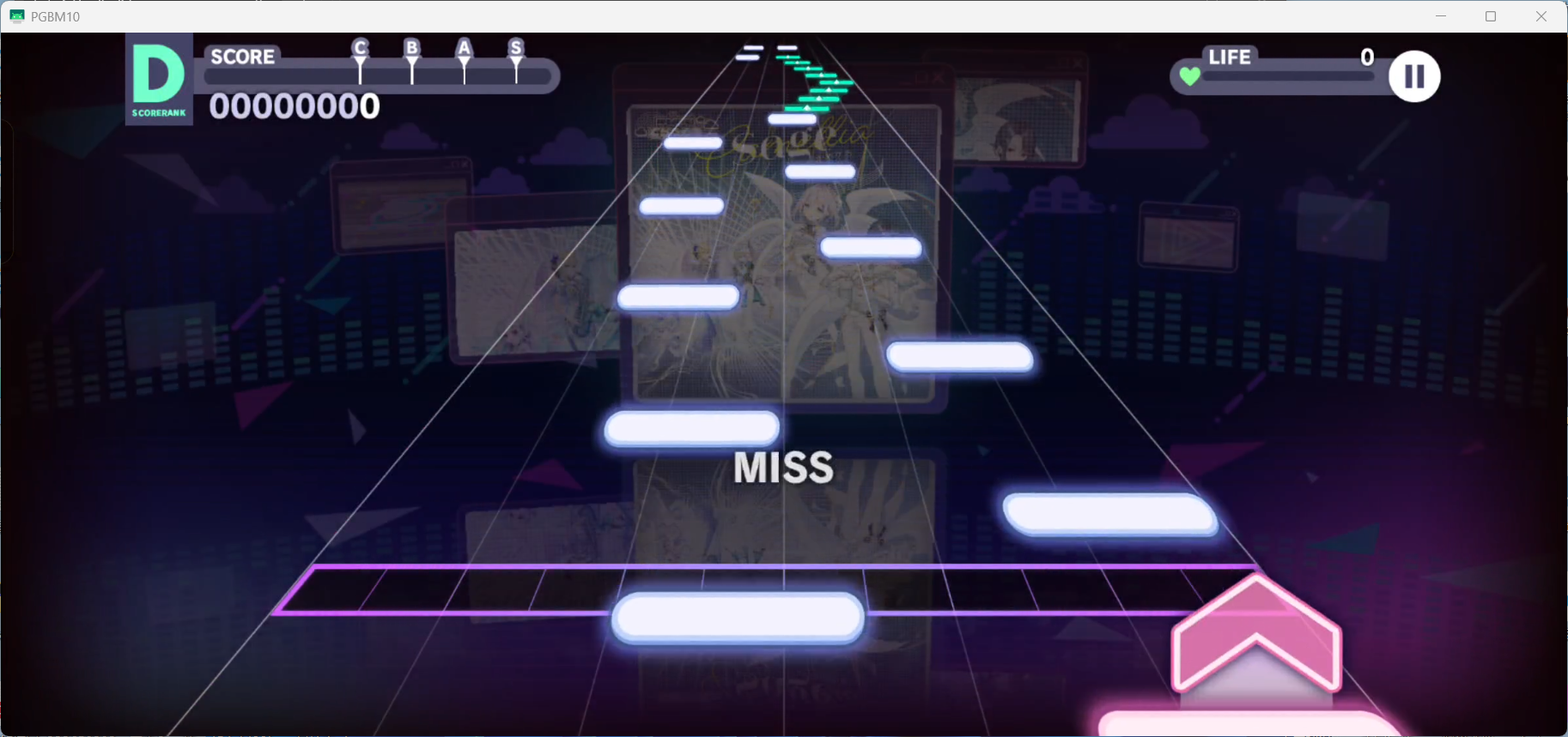flick: (1170, 570, 1347, 712)
sweep: (785, 105, 829, 112), (798, 95, 839, 102), (810, 87, 848, 93), (805, 72, 837, 78), (819, 80, 853, 85), (794, 66, 823, 70), (784, 60, 811, 64), (775, 54, 799, 58)
tap: (611, 593, 864, 644), (1004, 492, 1219, 534), (1097, 712, 1404, 737), (602, 408, 781, 447), (884, 341, 1034, 368), (617, 284, 738, 314), (819, 236, 922, 259), (639, 196, 726, 214), (785, 164, 855, 178), (664, 136, 722, 148), (768, 113, 817, 125), (734, 54, 759, 61), (776, 45, 798, 50), (744, 45, 764, 50)
